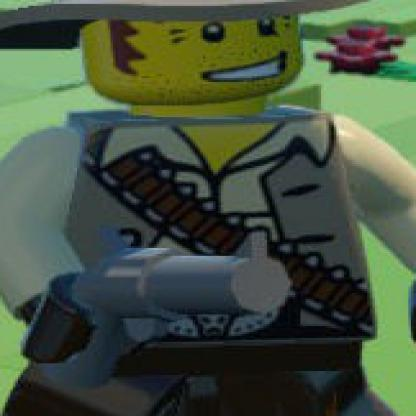gun: (28, 223, 288, 380)
